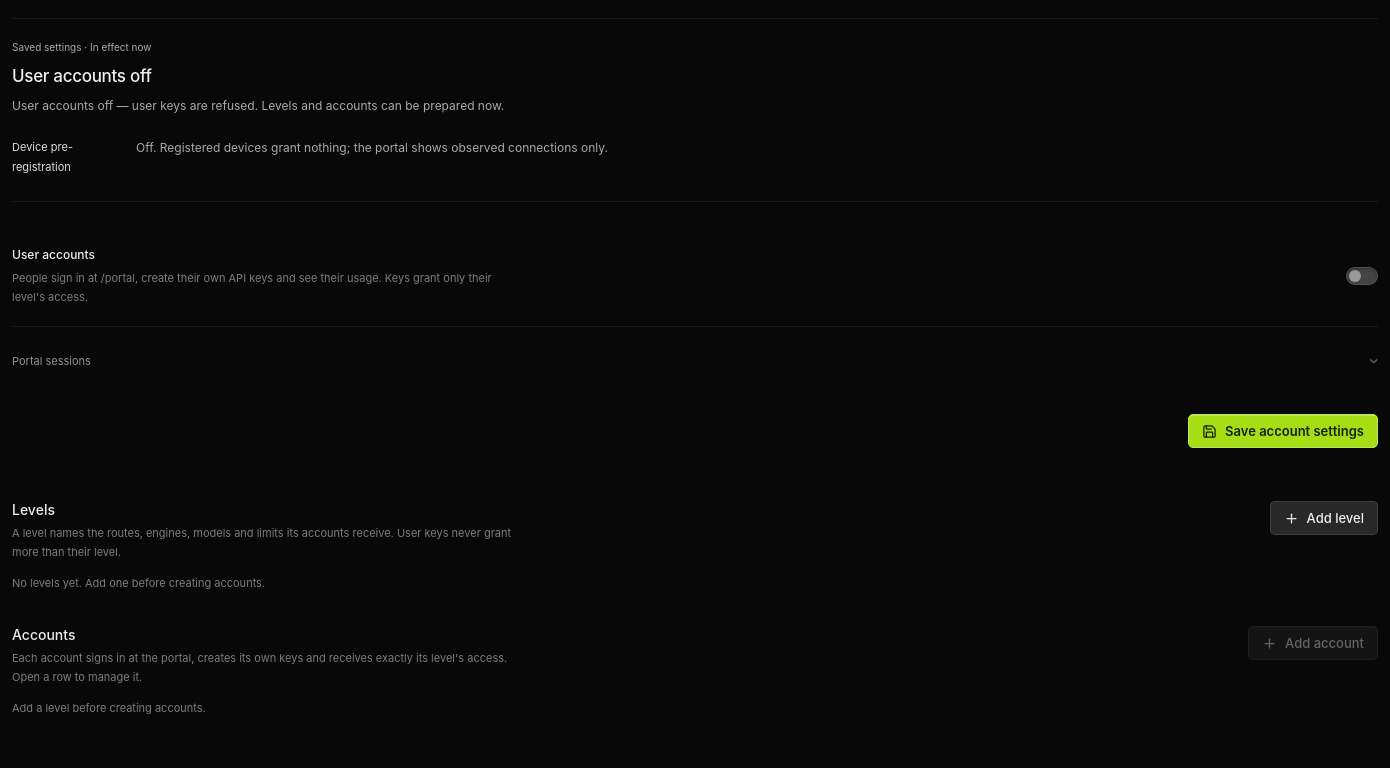
Test case: Accounts settings › stale account settings draft is refused
Click the button "Save account settings" at [1283, 431], box [1188,414,1378,448]
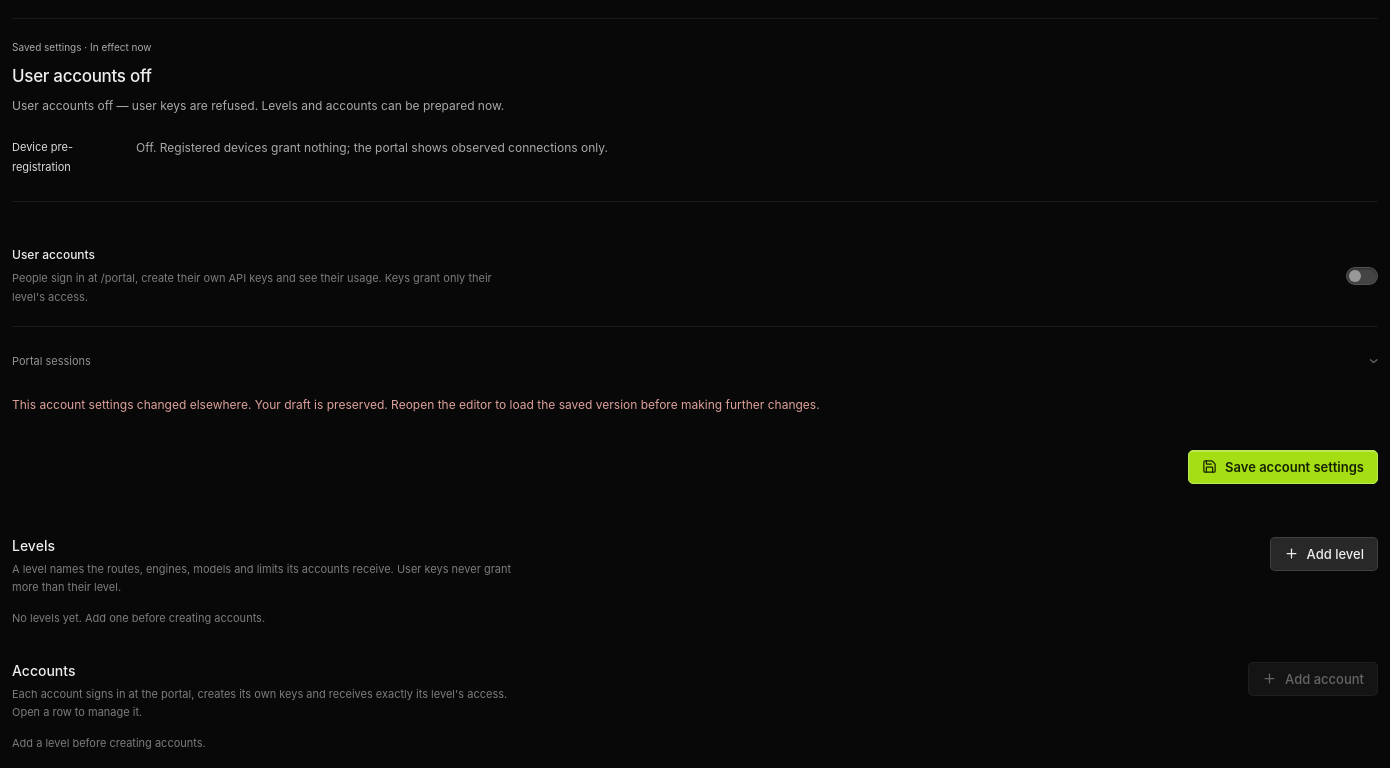
Now the message shows "account settings changed elsewhere", box [12,397,820,412]
